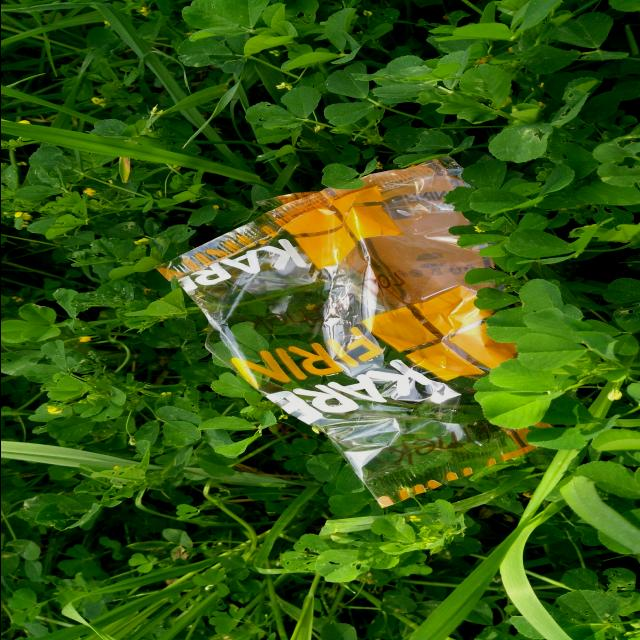Plastic film: (155, 156, 553, 508)
